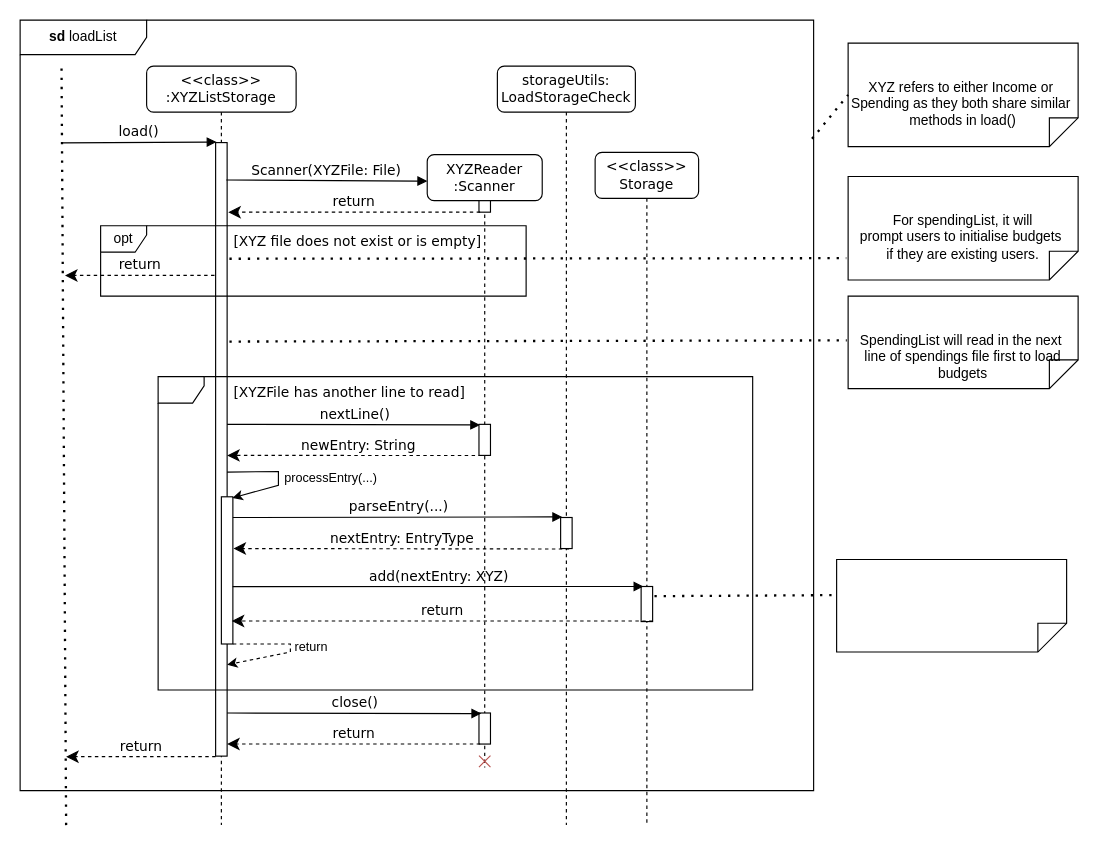
The diagram is 1098 pixels wide and 848 high, and some of its shapes have lost their labels. Each missing label, with the centre of its shape:
add() is invoked on static members in Storage: IncomeList or SpendingList: (x=951, y=605)
loop: (x=455, y=532)
